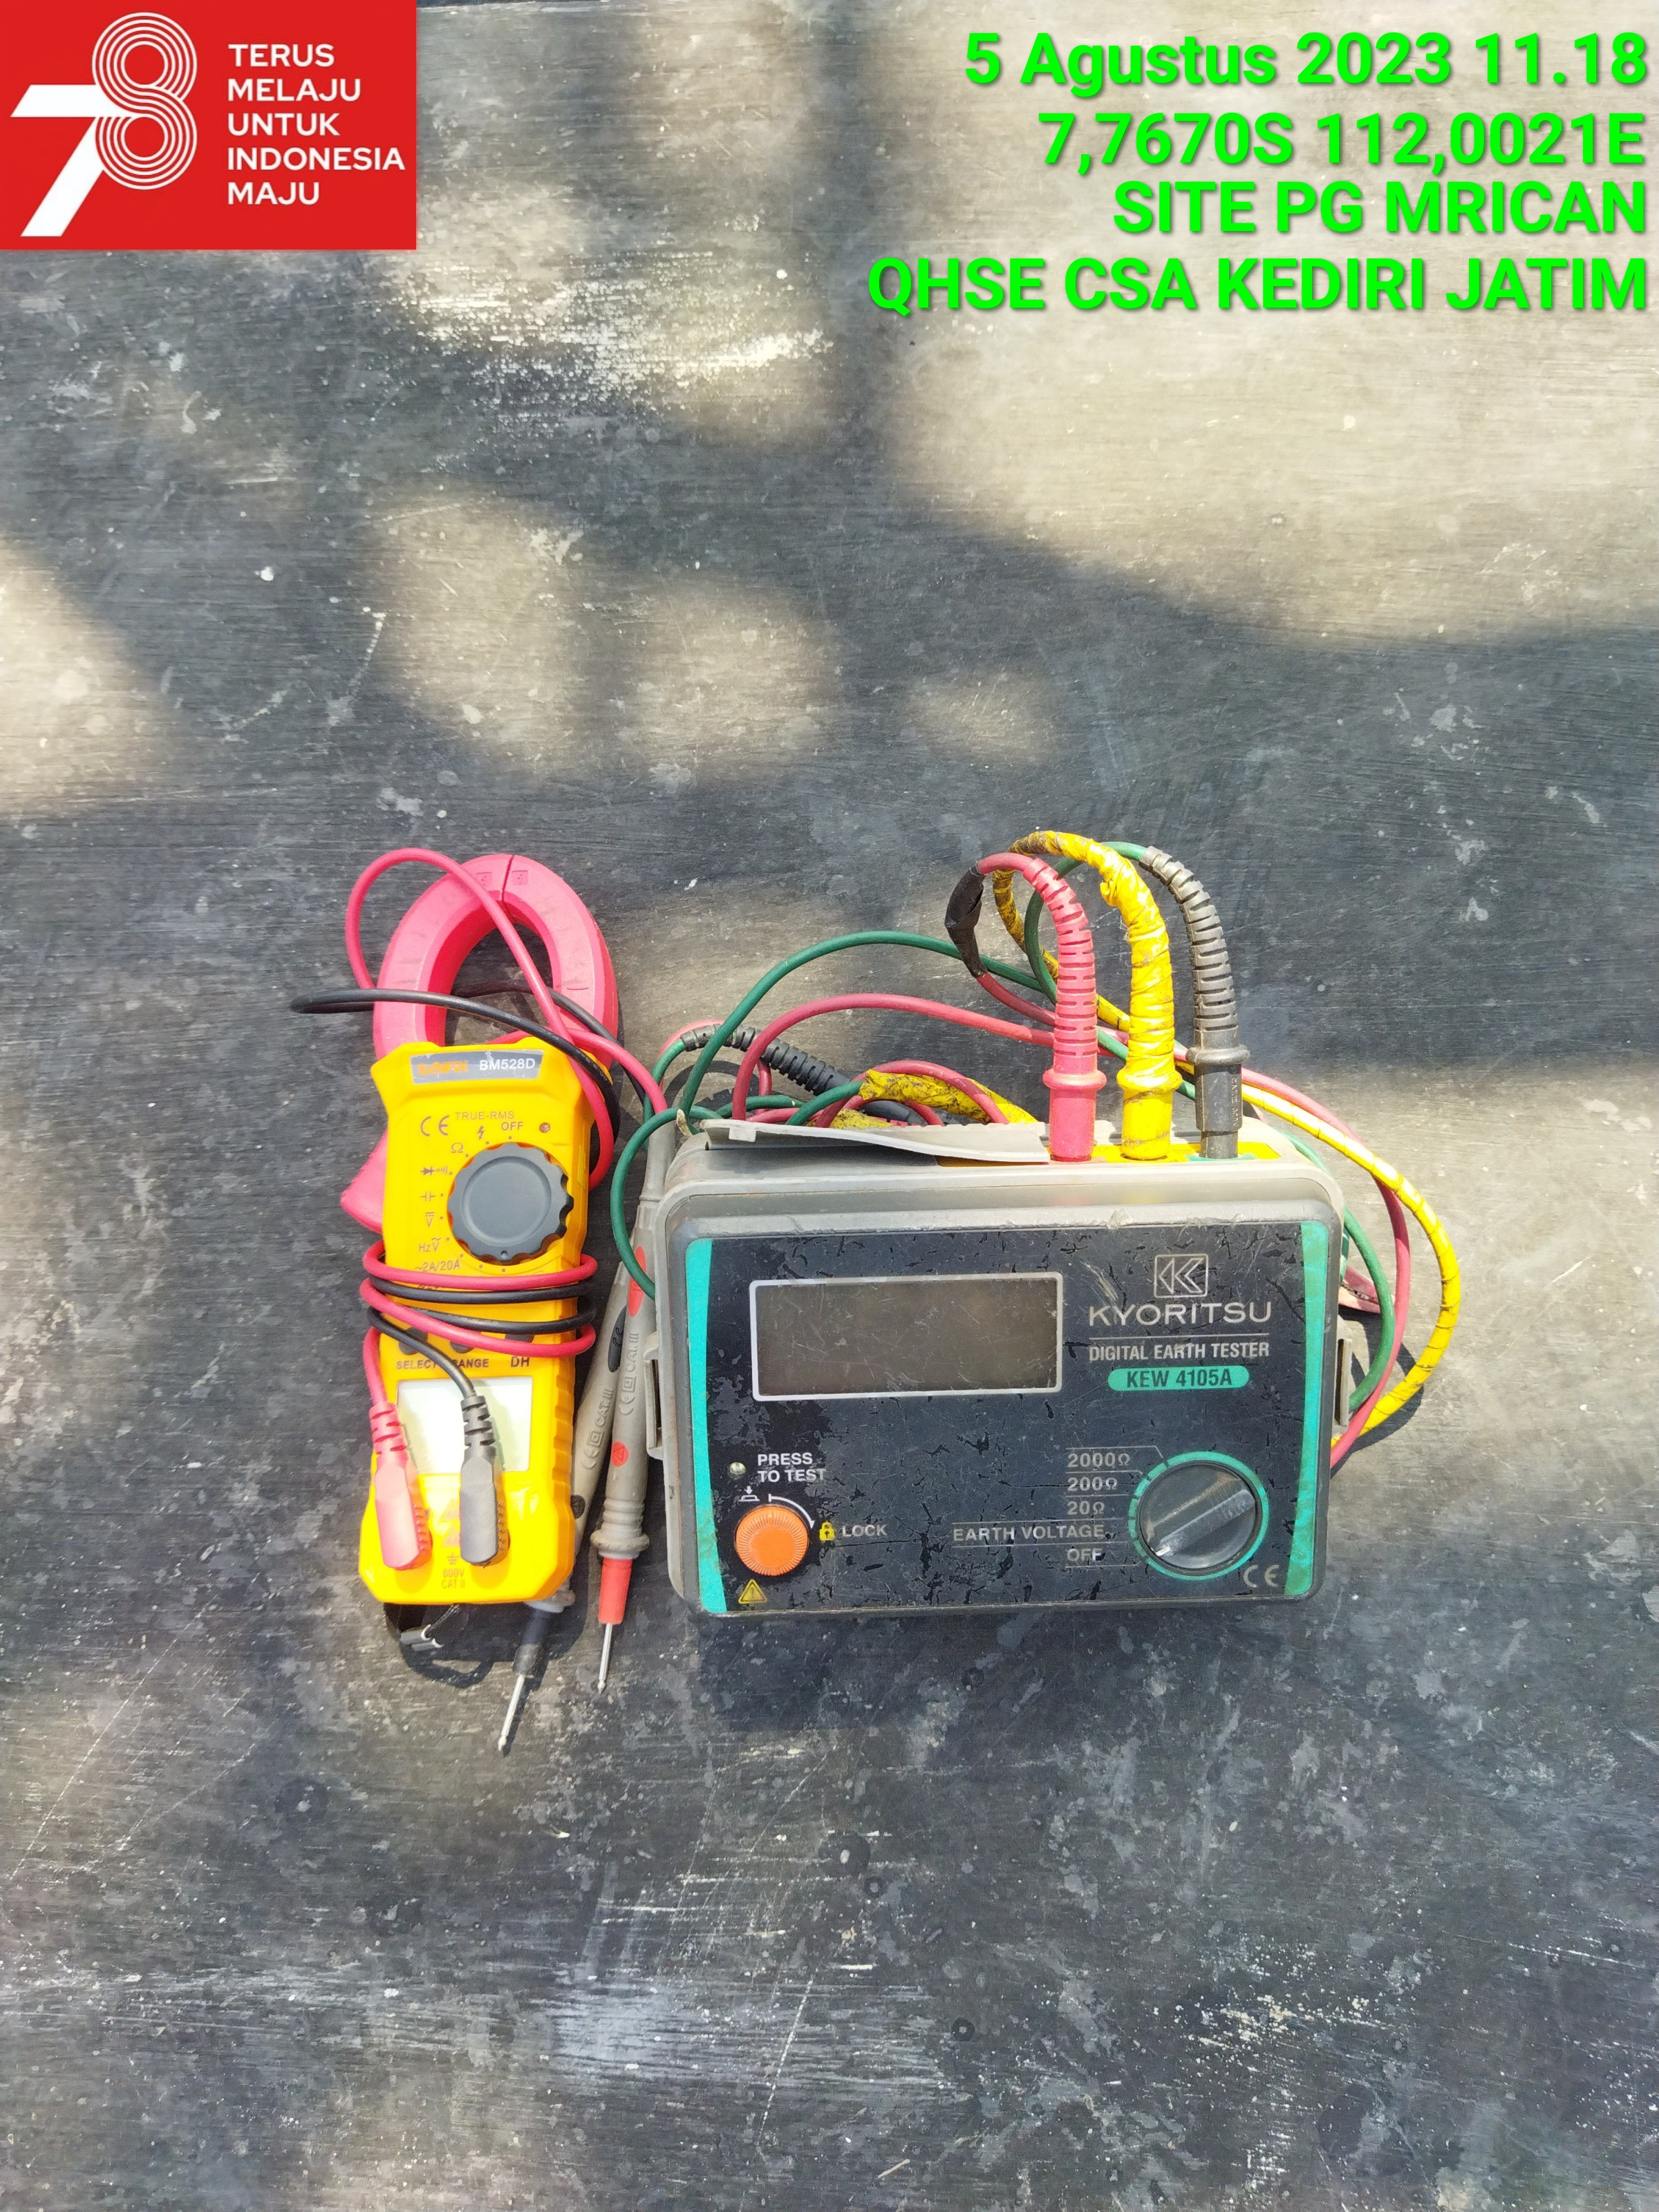EARTH_GROUNDING_TESTER: (657, 1120, 1335, 1618)
TANG_AMPERE: (336, 846, 620, 1611)
